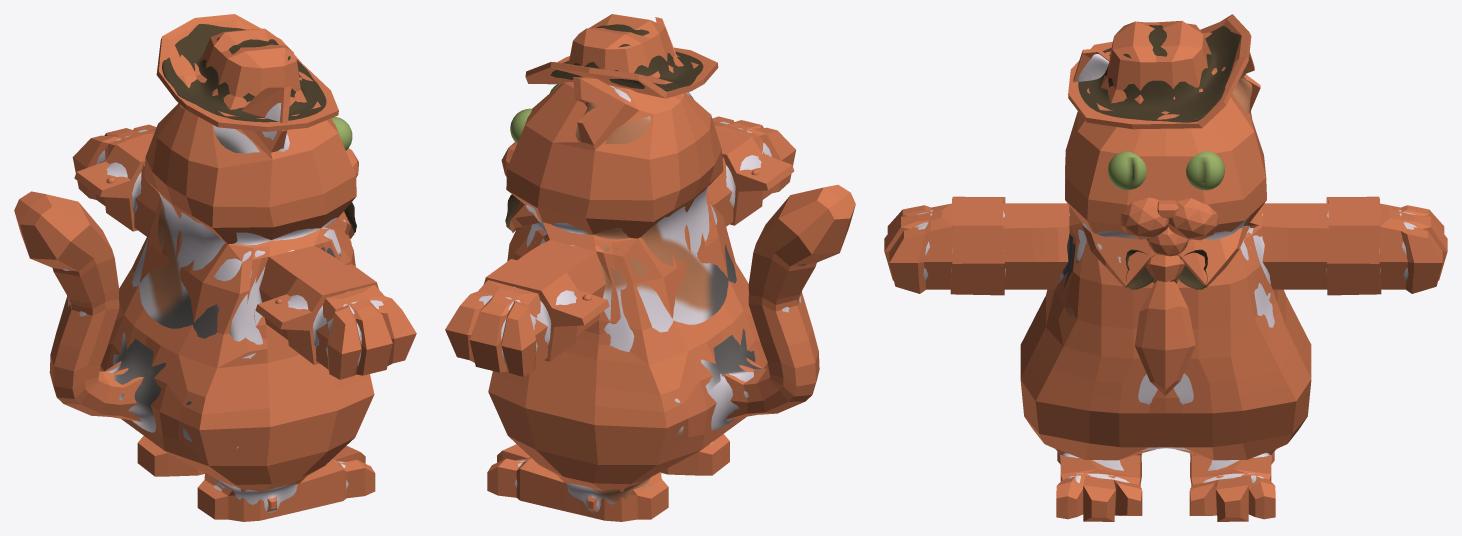
Rendered from gatoAlterado.fbx.
3 views of the same model, side by side, from view 1: azimuth 30°, elevation 25°; view 2: azimuth 150°, elevation 25°; view 3: azimuth 270°, elevation 25° (orthographic). The views are drawn at different scales.
Parts seen in each view (by area): view 1: low cat, DefinedCat; view 2: low cat, DefinedCat; view 3: low cat, DefinedCat.
Boxes of the visible parts, x1,y1,x2,y2 form: low cat: (14,14,416,521); DefinedCat: (63,24,383,512); low cat: (445,14,855,521); DefinedCat: (479,24,806,512); low cat: (884,14,1447,521); DefinedCat: (915,25,1416,483).
Bounding box in the file's own units: 100 × 127 × 142.
